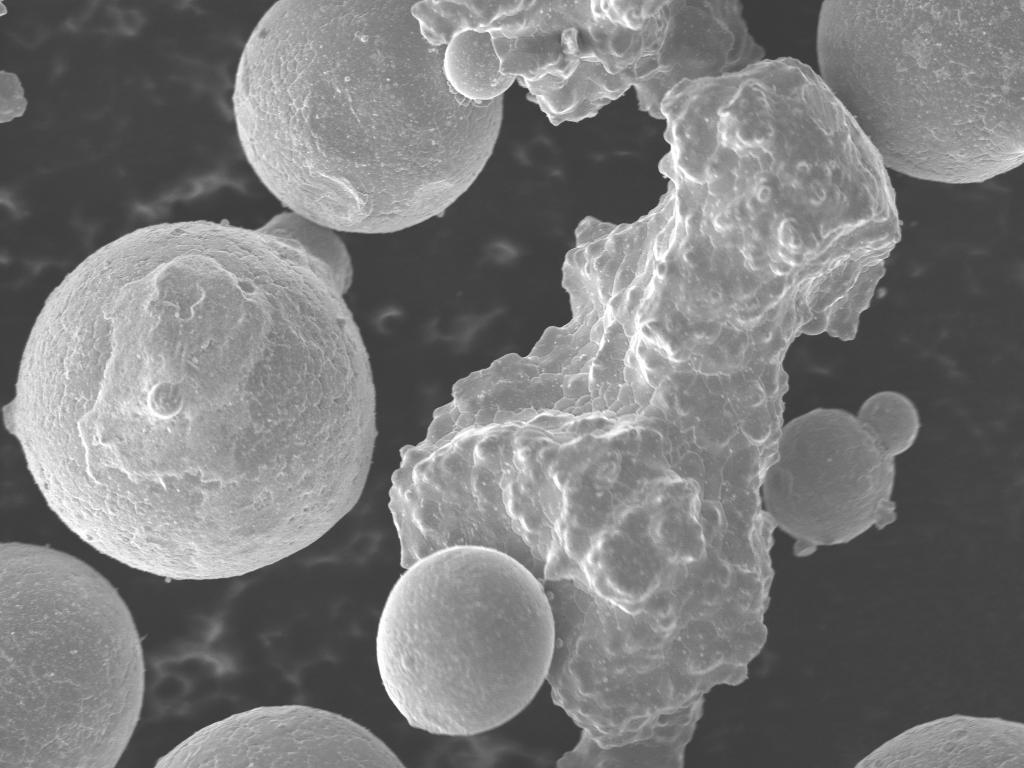Powder: (392, 0, 900, 764), (4, 214, 376, 580), (234, 0, 502, 233), (818, 0, 1024, 181), (376, 546, 554, 735), (0, 542, 144, 765), (762, 392, 920, 555), (156, 706, 402, 768), (856, 714, 1024, 768), (0, 70, 28, 121)
